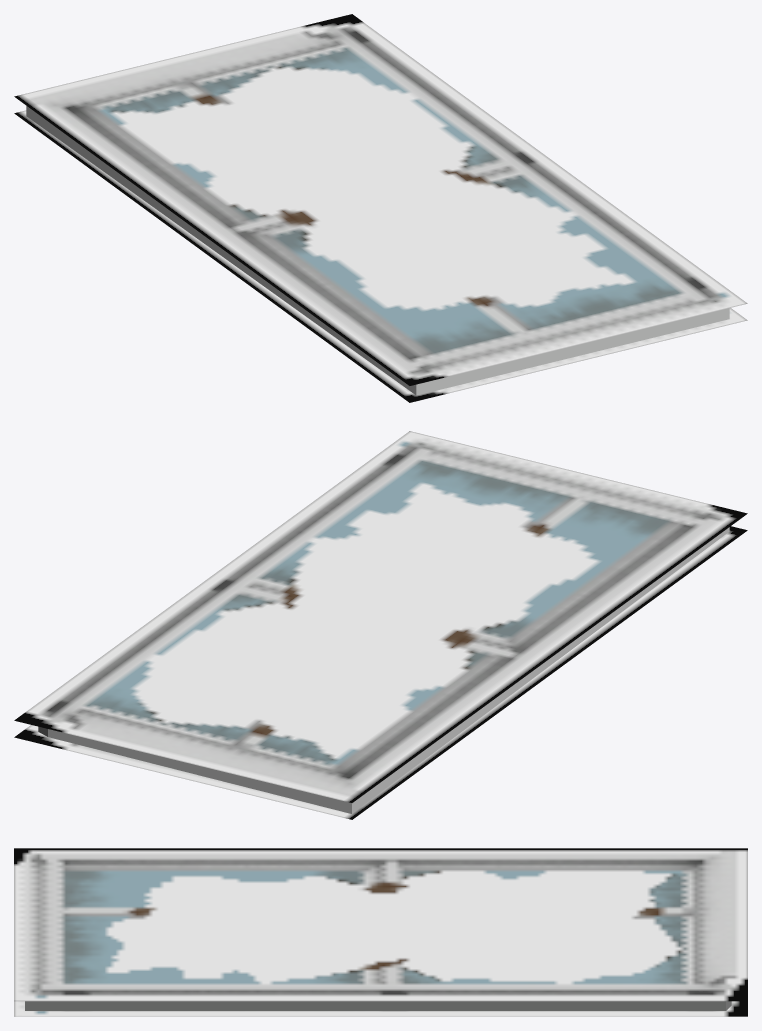
File: pz_native_fixtures_windows_white_67_frame.obj
The picture shows the model from 3 angles, top to bottom: view 1: azimuth 30°, elevation 25°; view 2: azimuth 150°, elevation 25°; view 3: azimuth 270°, elevation 25°; orthographic projection. The views are drawn at different scales.
Visible parts, largest first — view 1: pz_native_fixtures_windows_white_67_frame; view 2: pz_native_fixtures_windows_white_67_frame; view 3: pz_native_fixtures_windows_white_67_frame.
Part boxes in pixels (left/top/right/bottom): pz_native_fixtures_windows_white_67_frame: left=14, top=14, right=747, bottom=402; pz_native_fixtures_windows_white_67_frame: left=14, top=431, right=747, bottom=819; pz_native_fixtures_windows_white_67_frame: left=14, top=848, right=747, bottom=1016.
Bounding box in the file's own units: 0.8438 × 0.04 × 1.71.
1 material, 1 textured.
